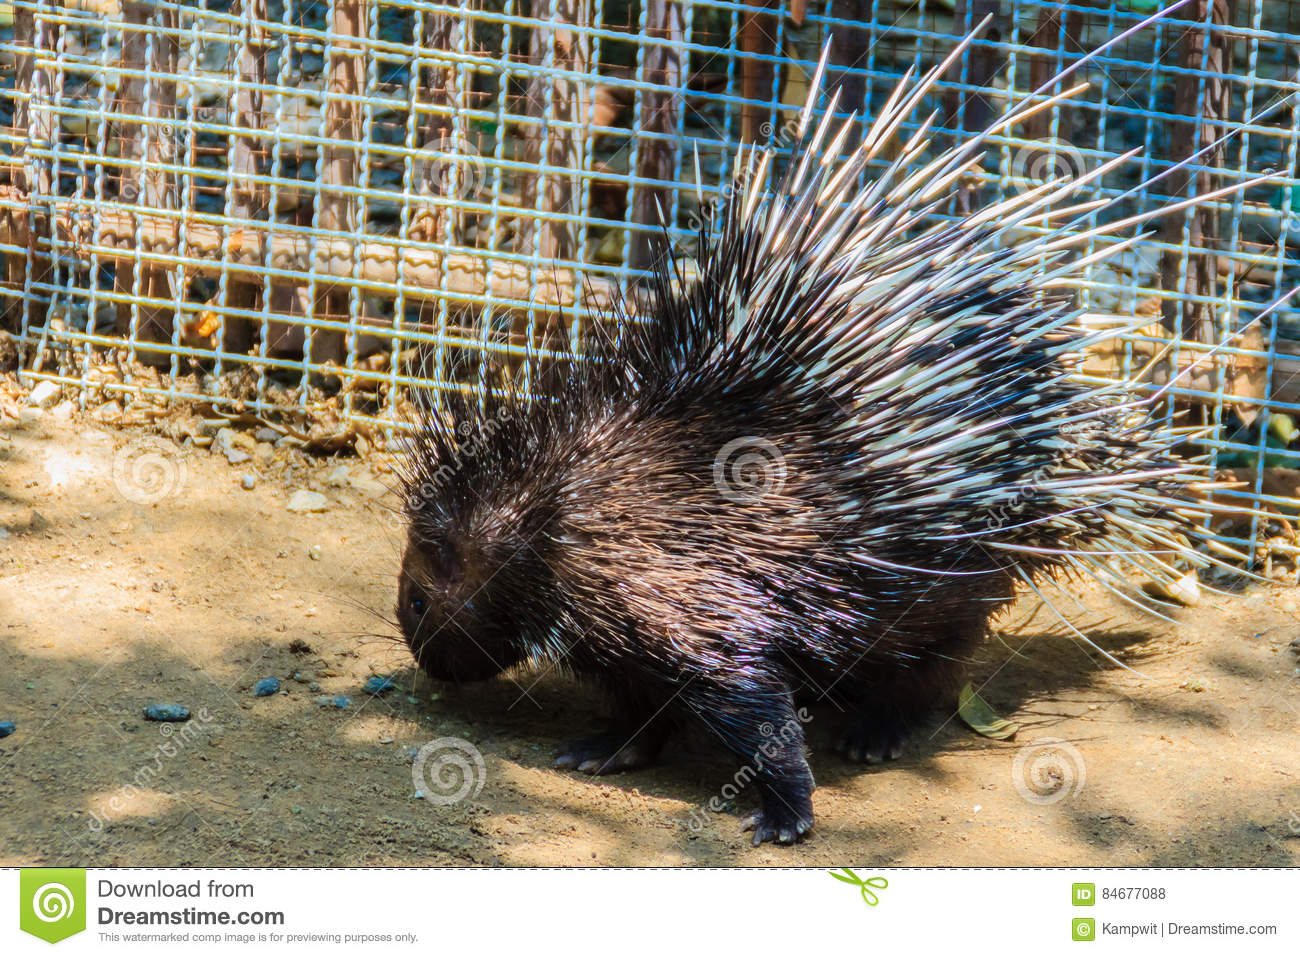porcupine: (349, 30, 1221, 849)
